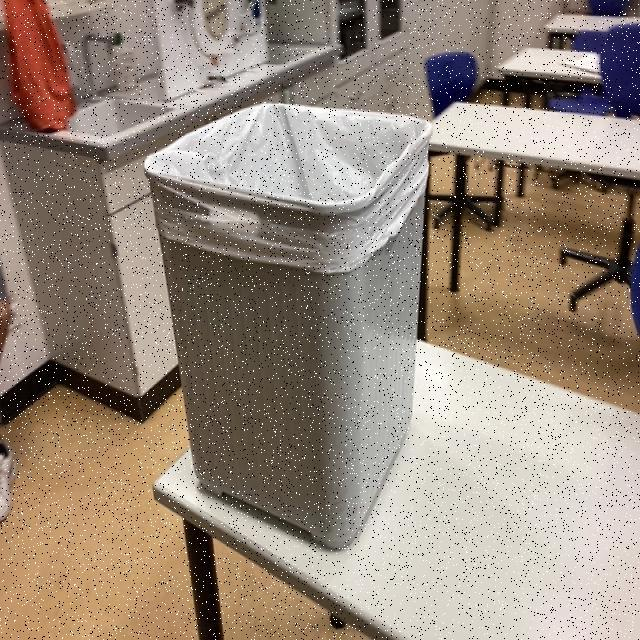garbage container: (133, 68, 469, 584)
